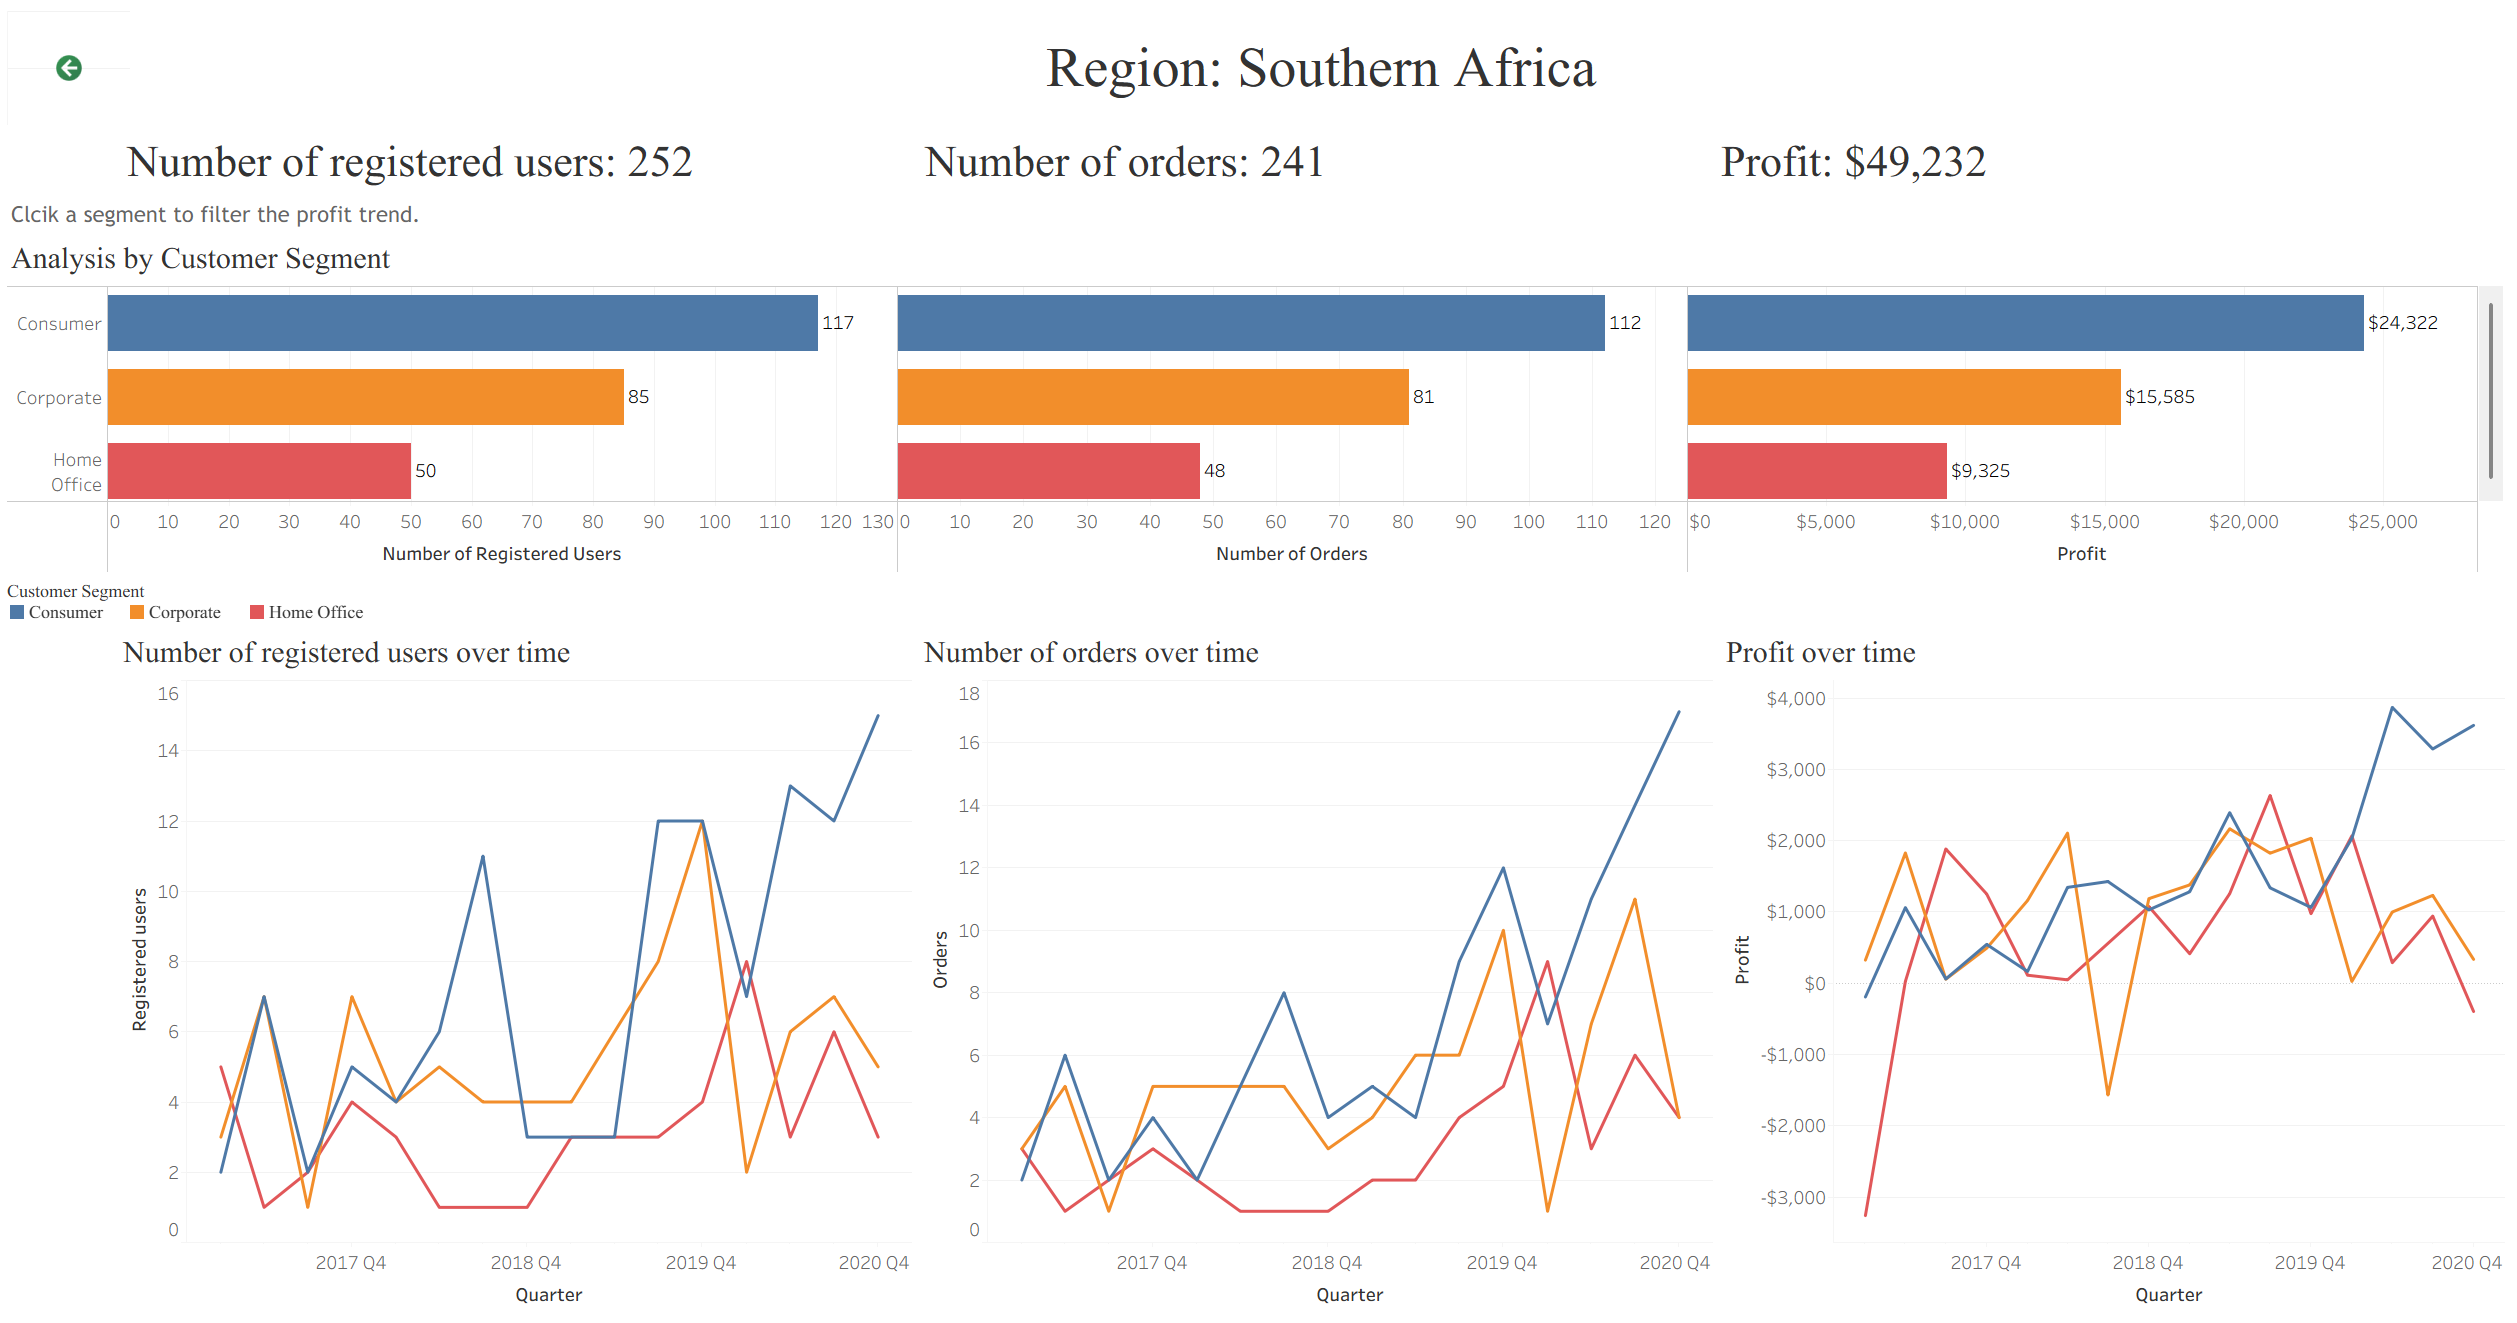

What the dashboard file says about the page in this screenshot:
{"tool":"tableau","page":{"name":"Customer Segment Overview","canvas":[1000,1000],"units":"permille","ordinal":0},"visuals":[{"type":"worksheet","title":"Back Button","mark":"Shape","rows":["Calculation_1583859695261757440"],"box":[3.2,6,52.1,92]},{"type":"worksheet","title":"Region Title","mark":"Automatic","box":[55.3,6,941.5,92]},{"type":"blank","box":[3.2,98,45.9,50.2]},{"type":"worksheet","title":"Number of registered users","mark":"Polygon","box":[49,98,316.7,50.2]},{"type":"worksheet","title":"Number of orders","mark":"Polygon","box":[365.7,98,315.4,50.2]},{"type":"worksheet","title":"Profit","mark":"Automatic","box":[681,98,315.8,50.2]},{"type":"text","box":[3.2,148.2,993.7,28.4]},{"type":"worksheet","title":"Analysis by Customer Segment","mark":"Automatic","rows":["CustomerSegment"],"cols":["CUSTOMER_453D8122C1704D15BD20CA47E54CEC5C","ORDER_2D9CA6BF519548C38A43D8C3EFB640EB","Calculation_643733336801898498"],"box":[3.2,176.6,993.7,259.6]},{"type":"legend","title":"Profit over time","param":"[federated.08u1zha0zau9aa1bl36je0co3owb].[none:CustomerSegment:nk]","box":[3.2,436.2,993.7,37.1]},{"type":"blank","box":[3.2,473.3,44.6,520.7]},{"type":"worksheet","title":"Number of registered users over time","mark":"Automatic","rows":["CUSTOMER_453D8122C1704D15BD20CA47E54CEC5C"],"cols":["RegistrationDate"],"box":[47.7,473.3,317.7,520.7]},{"type":"worksheet","title":"Number of orders over time","mark":"Automatic","rows":["ORDER_2D9CA6BF519548C38A43D8C3EFB640EB"],"cols":["OrderDate"],"box":[365.4,473.3,317.6,520.7]},{"type":"worksheet","title":"Profit over time","mark":"Automatic","rows":["Calculation_643733336801898498"],"cols":["OrderDate"],"box":[683,473.3,313.8,520.7]}]}

Visuals, with their boxes on the dashboard's canvas, which has no fixed pixel size, in thousandths of its width and height (x1, y1, x2, y2). These are canvas units, not pixel positions in the 2517x1323 screenshot, which may show the page scaled, cropped or inside an application window:
"Back Button" worksheet (Shape marks): detection(3, 6, 55, 98)
"Region Title" worksheet: detection(55, 6, 997, 98)
blank: detection(3, 98, 49, 148)
"Number of registered users" worksheet (Polygon marks): detection(49, 98, 366, 148)
"Number of orders" worksheet (Polygon marks): detection(366, 98, 681, 148)
"Profit" worksheet: detection(681, 98, 997, 148)
text: detection(3, 148, 997, 177)
"Analysis by Customer Segment" worksheet: detection(3, 177, 997, 436)
"Profit over time" legend: detection(3, 436, 997, 473)
blank: detection(3, 473, 48, 994)
"Number of registered users over time" worksheet: detection(48, 473, 365, 994)
"Number of orders over time" worksheet: detection(365, 473, 683, 994)
"Profit over time" worksheet: detection(683, 473, 997, 994)
